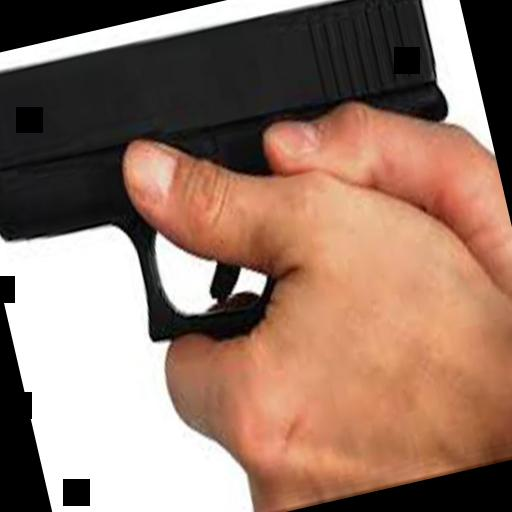Handgun: (0, 0, 489, 385)
